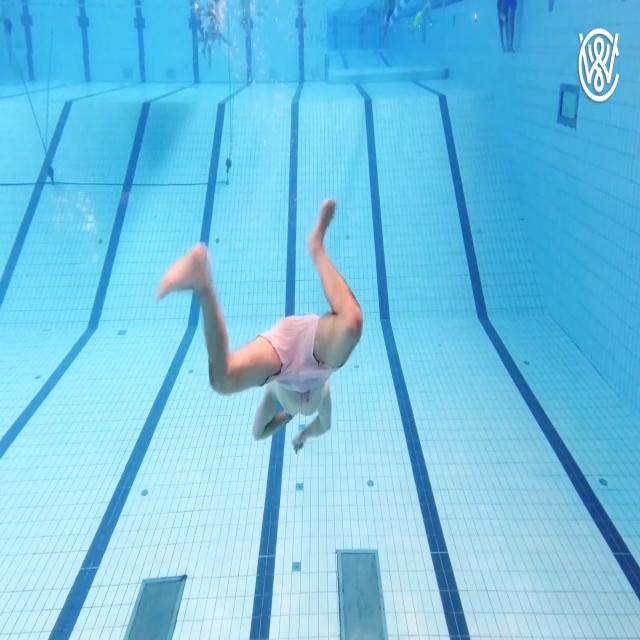Swimming: (158, 199, 366, 451)
